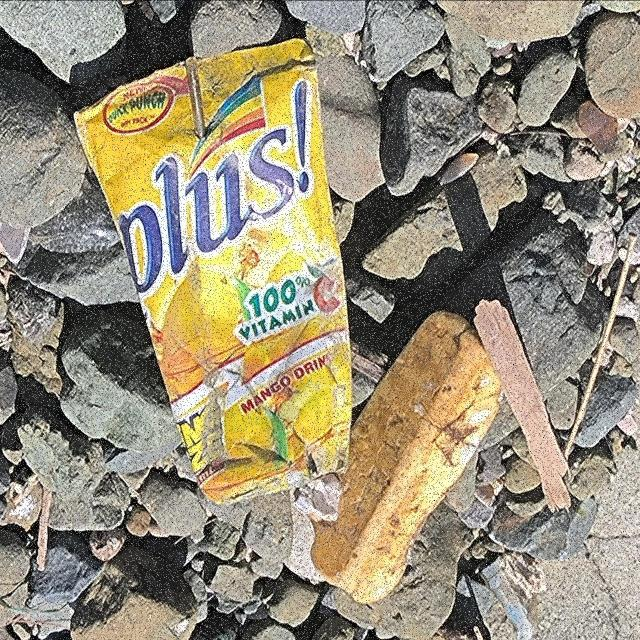plastic_waste: (73, 37, 356, 508)
